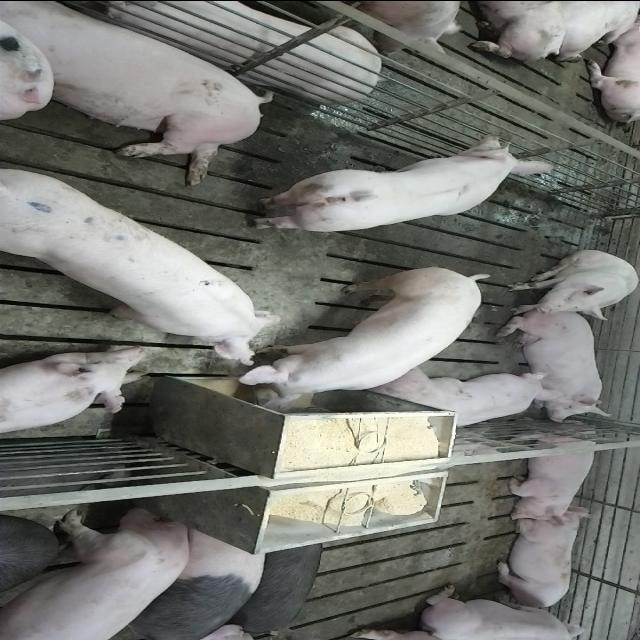Feeding: (231, 270, 489, 414)
Lateral_lying: (4, 4, 278, 188), (95, 0, 382, 102)
Sitting: (503, 250, 638, 318)
Standing: (5, 162, 284, 368), (242, 132, 558, 232), (0, 505, 197, 638), (105, 522, 268, 638), (226, 534, 324, 634)
Sternal_lying: (0, 349, 152, 438), (502, 313, 612, 420), (370, 370, 554, 430), (502, 425, 602, 524), (416, 584, 598, 638), (491, 510, 588, 610)
